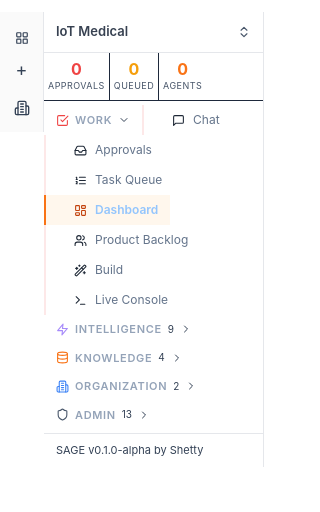
Sidebar › clicking Intelligence header expands it and collapses Work
The width and height of the screenshot is (320, 512).
Click the text "Intelligence" at (118, 329), box [75,321,162,338]
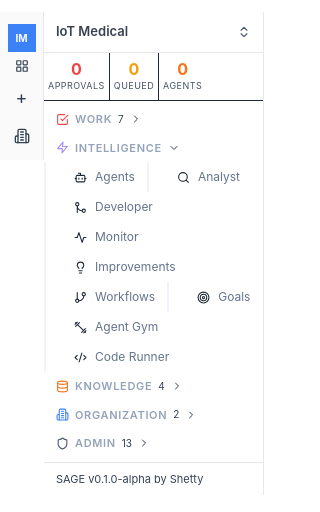
Expected: the text "Analyst" is shown, [198,168,240,186]
